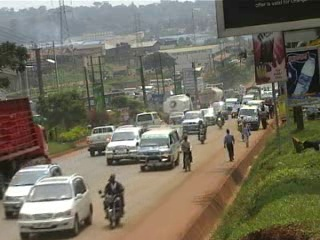Car: (16, 171, 97, 237), (1, 161, 67, 222), (103, 125, 146, 165), (179, 108, 209, 136), (165, 107, 185, 127), (210, 100, 228, 122), (198, 106, 216, 125), (229, 101, 244, 119)
Motorcycle: (93, 175, 131, 228), (192, 117, 209, 144), (214, 111, 228, 132)
